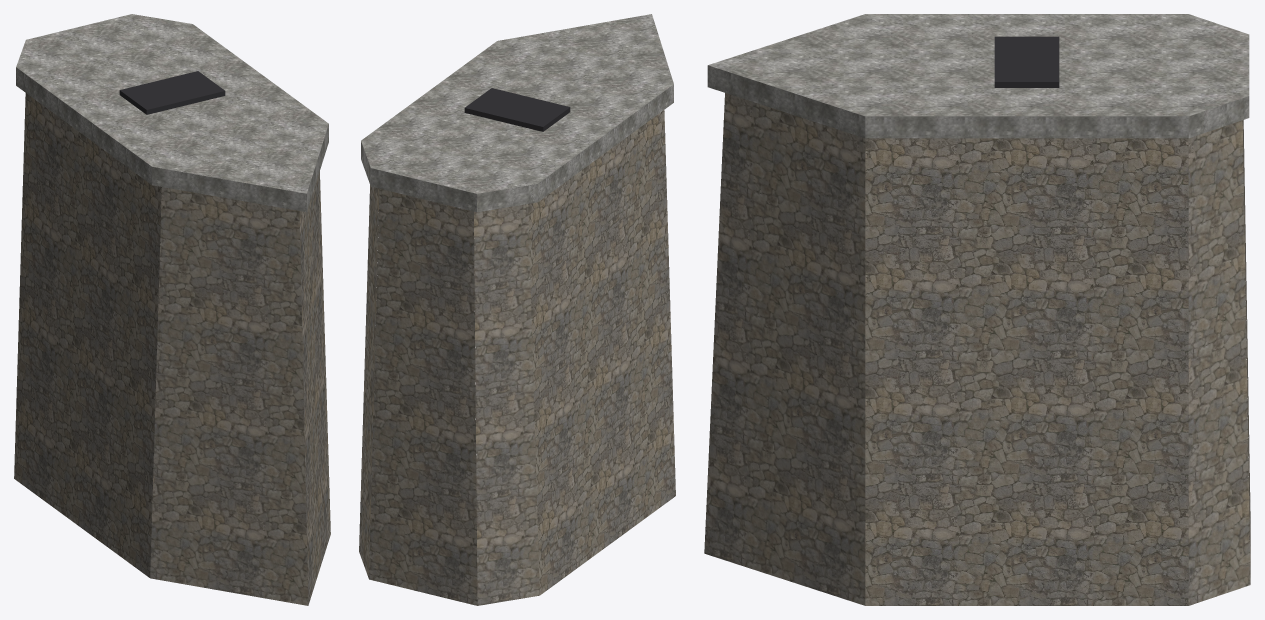
File: town_bridge_pier 2.gltf
3 renders of one model, left to right at view 1: azimuth 30°, elevation 25°; view 2: azimuth 150°, elevation 25°; view 3: azimuth 270°, elevation 25°, orthographic. The views are drawn at different scales.
Visible parts, largest first — view 1: TownBridgePier_Stone, TownBridgePier_Cap, TownBridgePier_Bearings; view 2: TownBridgePier_Stone, TownBridgePier_Cap, TownBridgePier_Bearings; view 3: TownBridgePier_Stone, TownBridgePier_Cap, TownBridgePier_Bearings.
Boxes of the visible parts, box(x1,y1,x2,y2) form: TownBridgePier_Stone: box(14, 93, 330, 605); TownBridgePier_Cap: box(16, 14, 328, 212); TownBridgePier_Bearings: box(119, 71, 225, 114); TownBridgePier_Stone: box(359, 110, 675, 605); TownBridgePier_Cap: box(361, 14, 673, 212); TownBridgePier_Bearings: box(464, 88, 570, 131); TownBridgePier_Stone: box(704, 93, 1250, 605); TownBridgePier_Cap: box(707, 14, 1249, 138); TownBridgePier_Bearings: box(994, 36, 1059, 87).
Size of what is drawn, in the model's own units: 4.6 by 10.12 by 10.14.
1 material, 1 textured.
